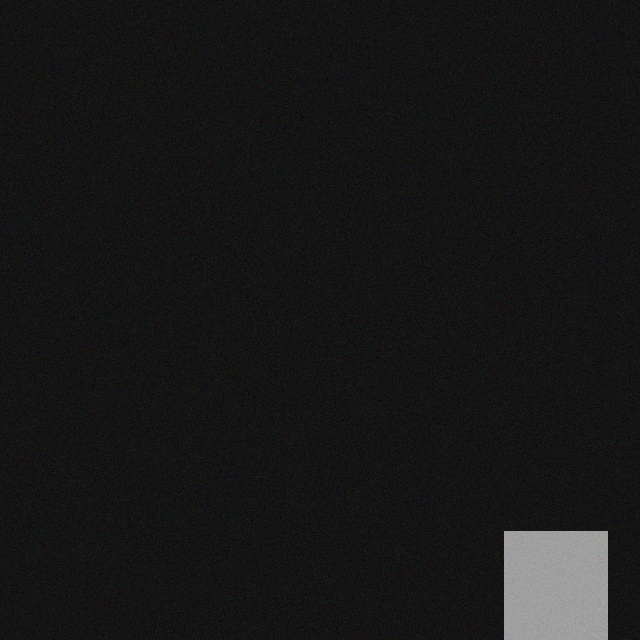square: (495, 536, 598, 639)
